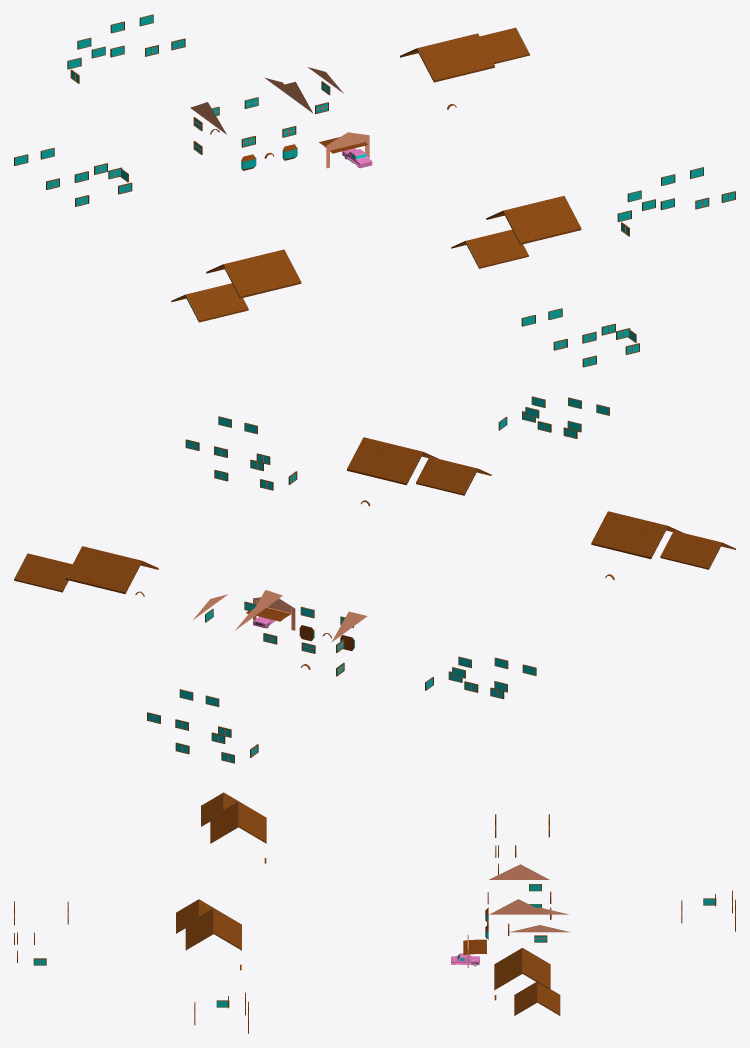
The model's file is object_15_lev1_lev2.glb.
The picture shows the model from 3 angles, top to bottom: view 1: azimuth 30°, elevation 25°; view 2: azimuth 150°, elevation 25°; view 3: azimuth 270°, elevation 25°; orthographic projection. The views are drawn at different scales.
Parts seen in each view (by area): view 1: object_15_lev1_lev2; view 2: object_15_lev1_lev2; view 3: object_15_lev1_lev2.
Part boxes in pixels (x1,y1,x2,y2): object_15_lev1_lev2: [14, 14, 735, 367]; object_15_lev1_lev2: [14, 396, 735, 763]; object_15_lev1_lev2: [14, 792, 735, 1033].
Bounding box in the file's own units: 74 × 8.72 × 105.
Materials: 1 (1 with a texture image).
